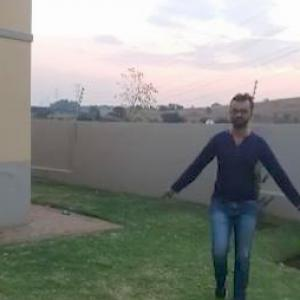land: (172, 92, 299, 299)
